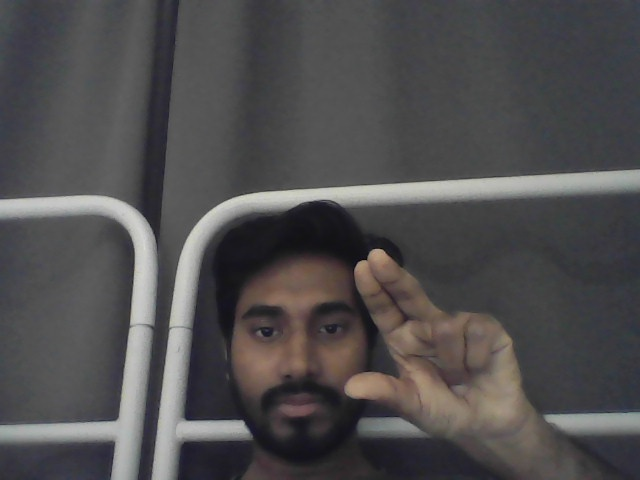no: (344, 248, 528, 448)
